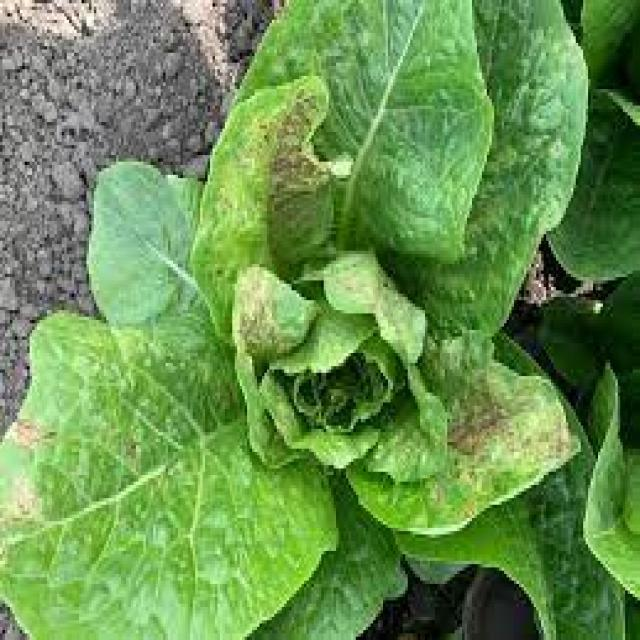Lettuce Mosaic Virus: (218, 7, 620, 478), (27, 313, 608, 622), (85, 175, 308, 372)
